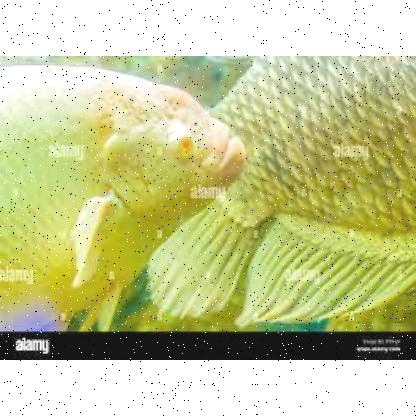gurame: (0, 77, 240, 307)
